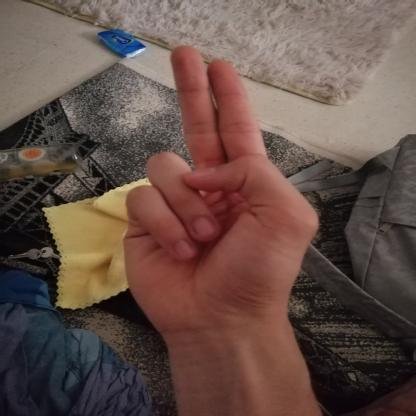TA: (96, 31, 332, 350)
